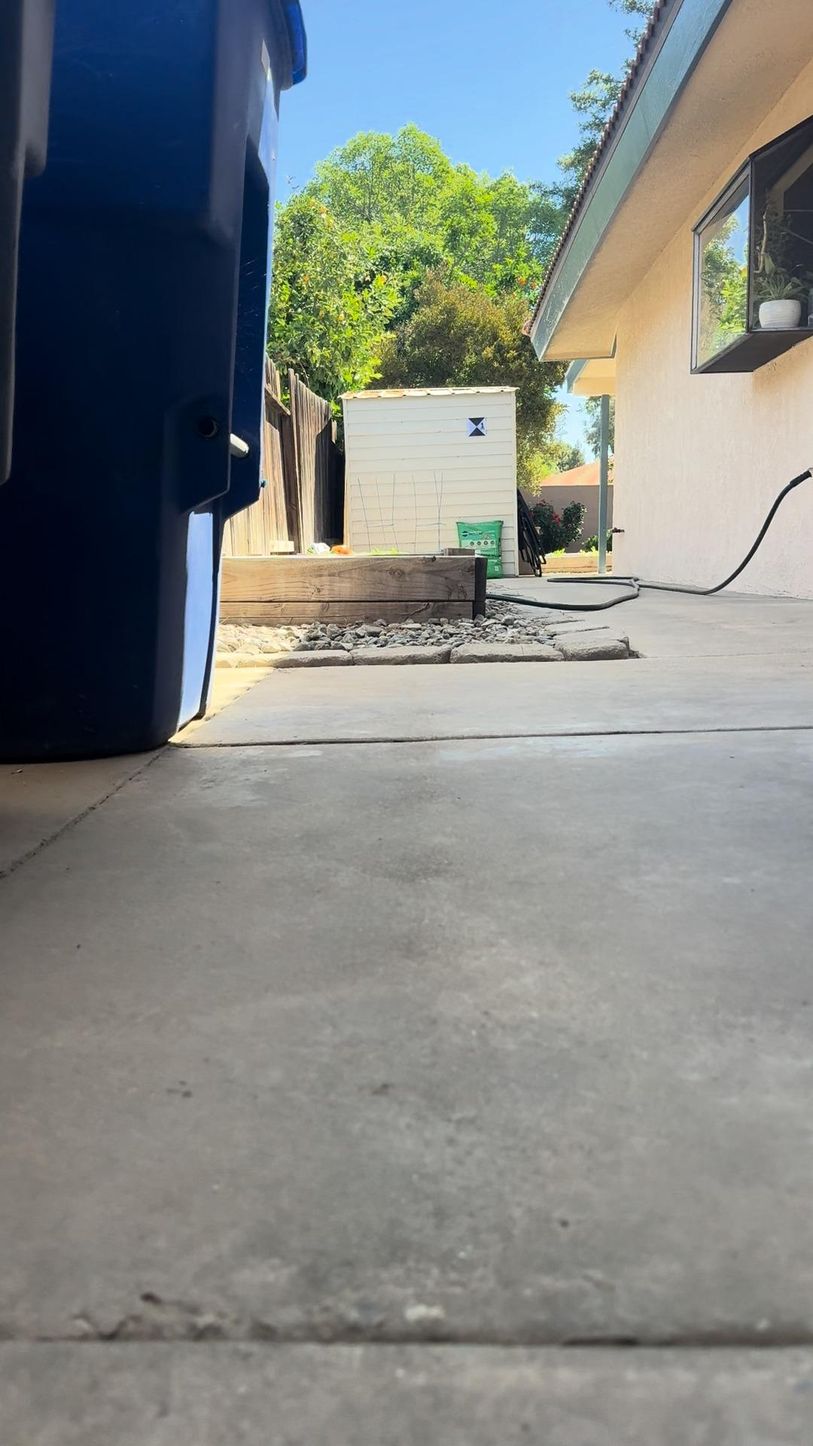target1: (464, 413, 489, 439)
